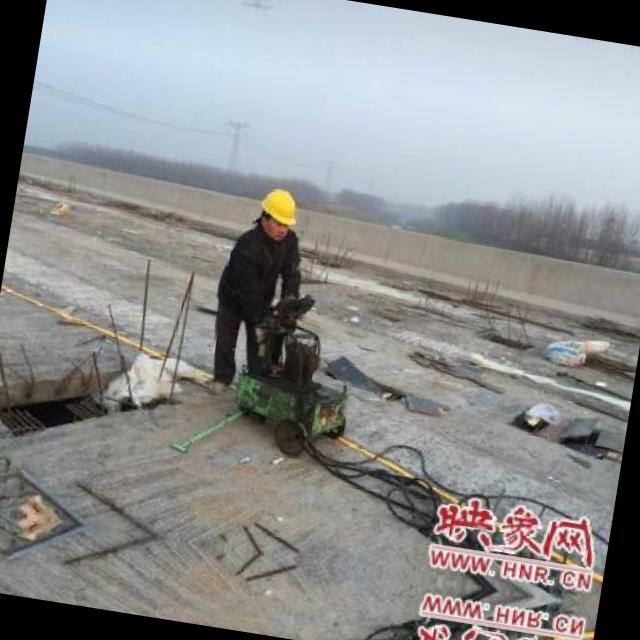helmet: (252, 180, 302, 243)
